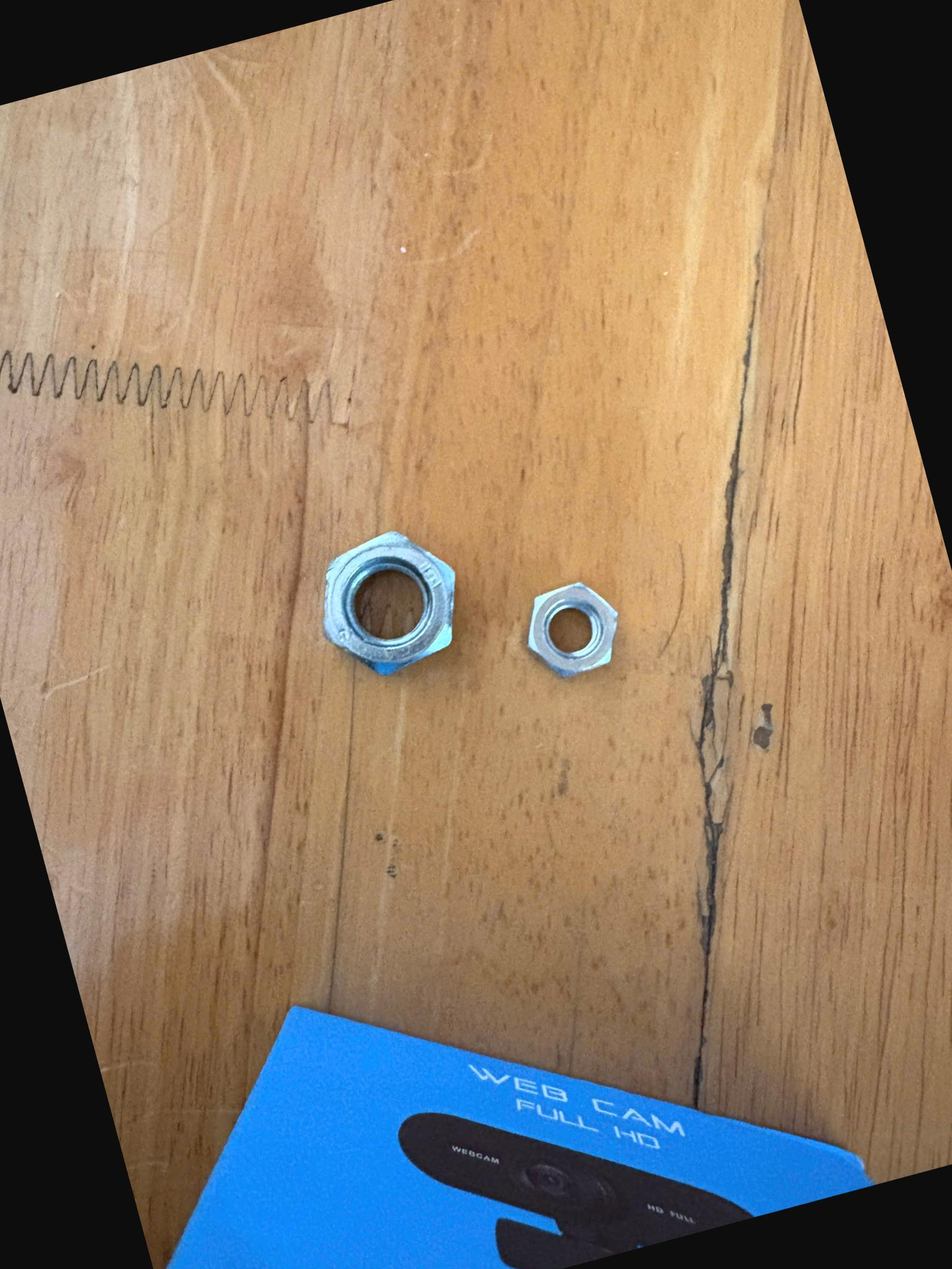nut: (289, 510, 487, 710), (504, 557, 646, 707)
